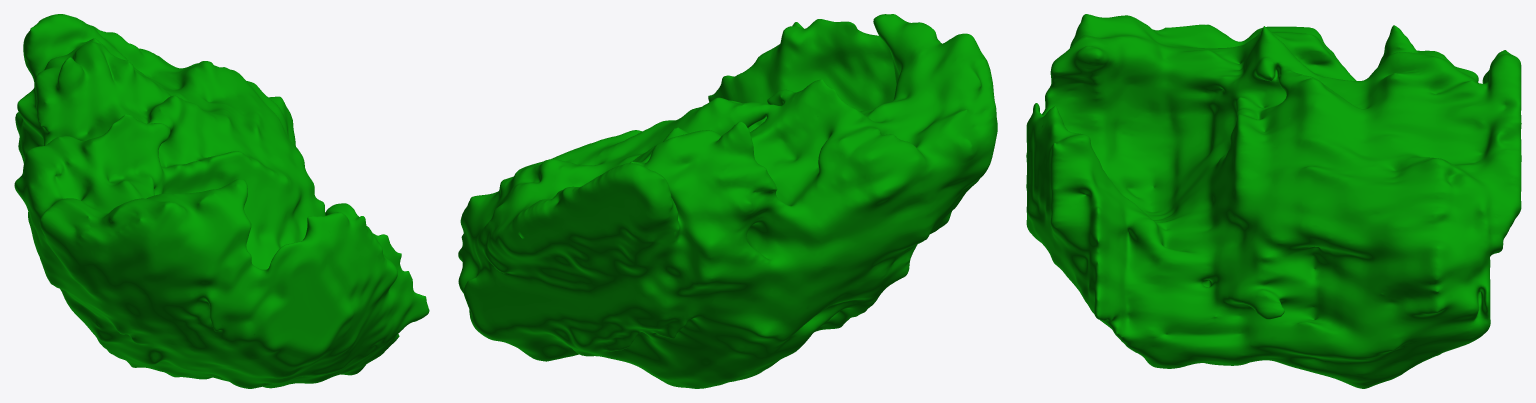
The model's file is mass_blended.glb.
3 renders of one model, left to right at view 1: azimuth 30°, elevation 25°; view 2: azimuth 150°, elevation 25°; view 3: azimuth 270°, elevation 25°, orthographic. The views are drawn at different scales.
Visible parts, largest first — view 1: Mass; view 2: Mass; view 3: Mass.
Boxes of the visible parts, left/top/right/bottom form: Mass: left=14, top=14, right=429, bottom=388; Mass: left=458, top=14, right=997, bottom=388; Mass: left=1026, top=14, right=1521, bottom=388.
Bounding box in the file's own units: 170 × 128 × 201.
